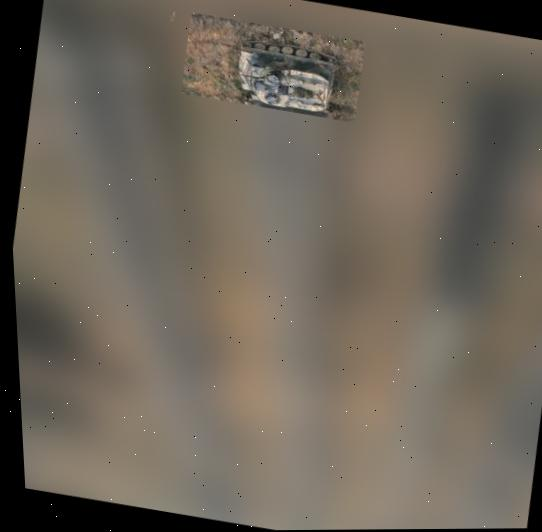armored_car: (224, 27, 352, 120)
